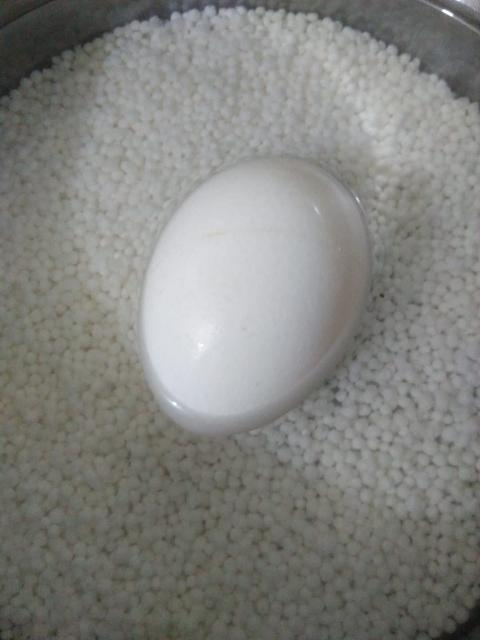Sano: (136, 153, 375, 437)
